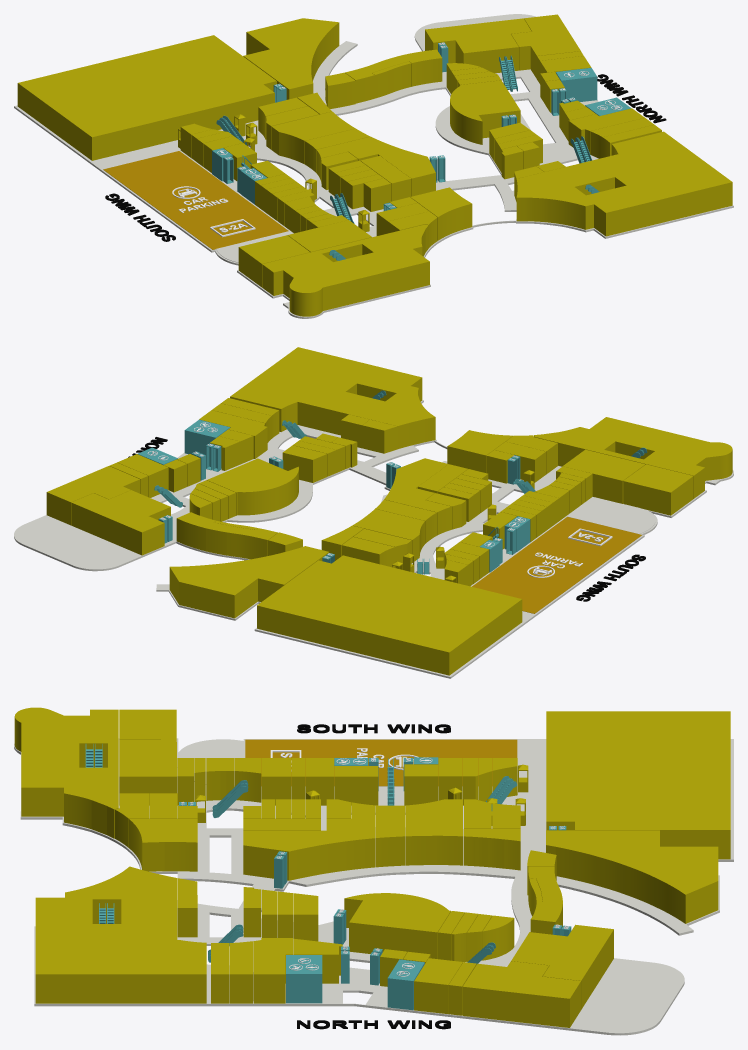
Rendered from floor-2.gltf.
3 views of the same model, one above another, from view 1: azimuth 30°, elevation 25°; view 2: azimuth 150°, elevation 25°; view 3: azimuth 270°, elevation 25° (orthographic). The views are drawn at different scales.
Visible parts, largest first — view 1: Line001, Line058, Line880, Line032, Line328, Line002, Line062, Line053, Line008, Line061, Line006, Line064 (+28 smaller); view 2: Line001, Line880, Line058, Line328, Line032, Line002, Line062, Line053, Line064, Line031, Line061, Line008 (+29 smaller); view 3: Line880, Line001, Line058, Line032, Line002, Line008, Line061, Line328, Line053, Line062, Line006, Line038 (+45 smaller).
Boxes of the visible parts, bbox=[...] form: Line001: bbox=[17, 35, 276, 160]; Line058: bbox=[516, 131, 732, 236]; Line880: bbox=[14, 14, 733, 318]; Line032: bbox=[262, 224, 429, 316]; Line328: bbox=[103, 151, 288, 249]; Line002: bbox=[243, 18, 339, 99]; Line062: bbox=[425, 18, 531, 73]; Line053: bbox=[450, 80, 520, 144]; Line008: bbox=[316, 136, 435, 196]; Line061: bbox=[511, 14, 580, 78]; Line006: bbox=[271, 111, 355, 164]; Line064: bbox=[345, 49, 442, 103]; Line001: bbox=[257, 555, 522, 675]; Line880: bbox=[14, 400, 733, 678]; Line058: bbox=[230, 347, 435, 448]; Line328: bbox=[472, 516, 641, 613]; Line032: bbox=[534, 417, 732, 498]; Line002: bbox=[169, 546, 328, 618]; Line062: bbox=[71, 490, 170, 555]; Line053: bbox=[207, 458, 298, 515]; Line064: bbox=[176, 512, 277, 559]; Line031: bbox=[623, 464, 693, 515]; Line061: bbox=[46, 466, 140, 525]; Line008: bbox=[384, 458, 451, 535]; Line880: bbox=[14, 738, 733, 1035]; Line001: bbox=[546, 711, 730, 859]; Line058: bbox=[35, 866, 206, 1003]; Line032: bbox=[14, 707, 118, 838]; Line002: bbox=[546, 830, 718, 923]; Line008: bbox=[243, 802, 375, 880]; Line061: bbox=[462, 961, 580, 1027]; Line328: bbox=[245, 739, 517, 786]; Line053: bbox=[344, 893, 450, 958]; Line062: bbox=[511, 924, 613, 1009]; Line006: bbox=[405, 799, 462, 865]; Line038: bbox=[128, 818, 197, 871].
Size of the model in its own units: 83.01 by 4.78 by 81.68.
